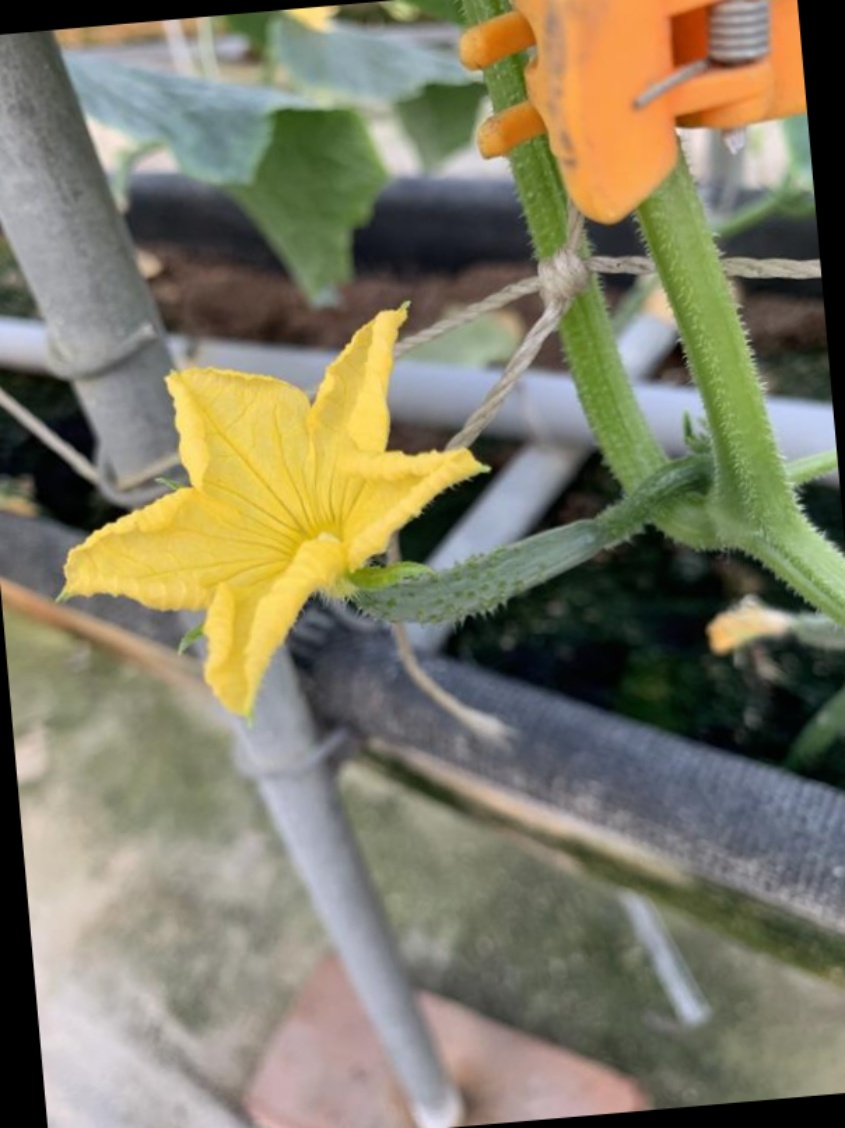flowering: (71, 290, 638, 693)
